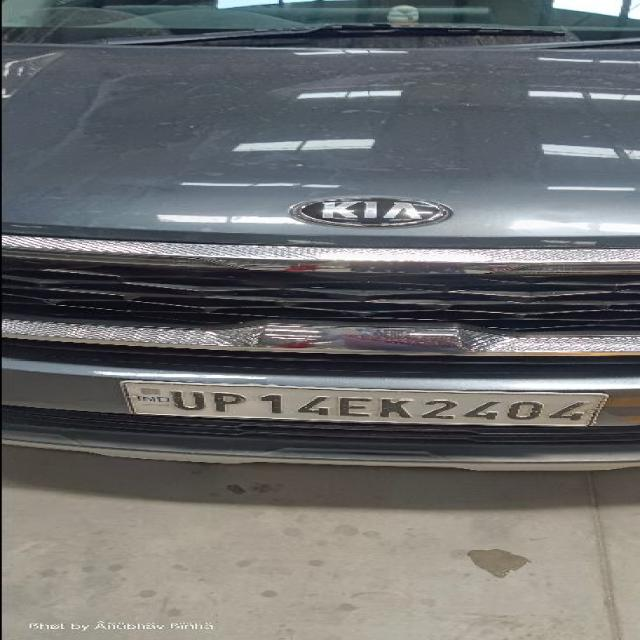license_plate: (2, 33, 638, 471), (117, 379, 610, 427)
